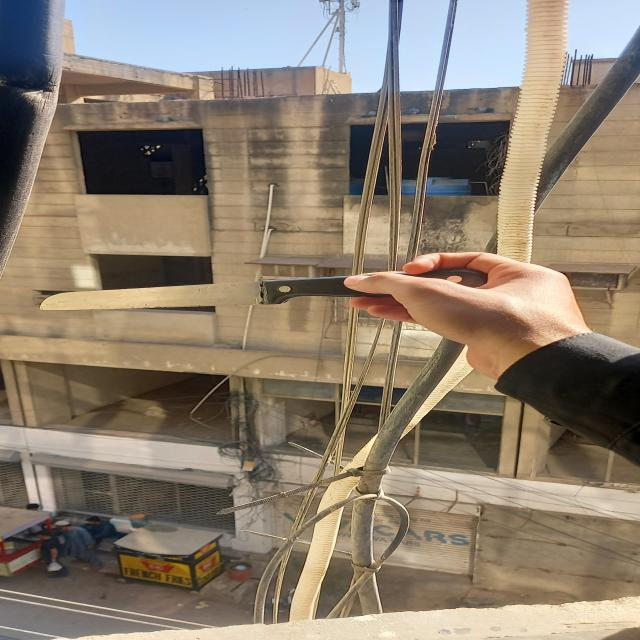weapon: (44, 270, 488, 318)
